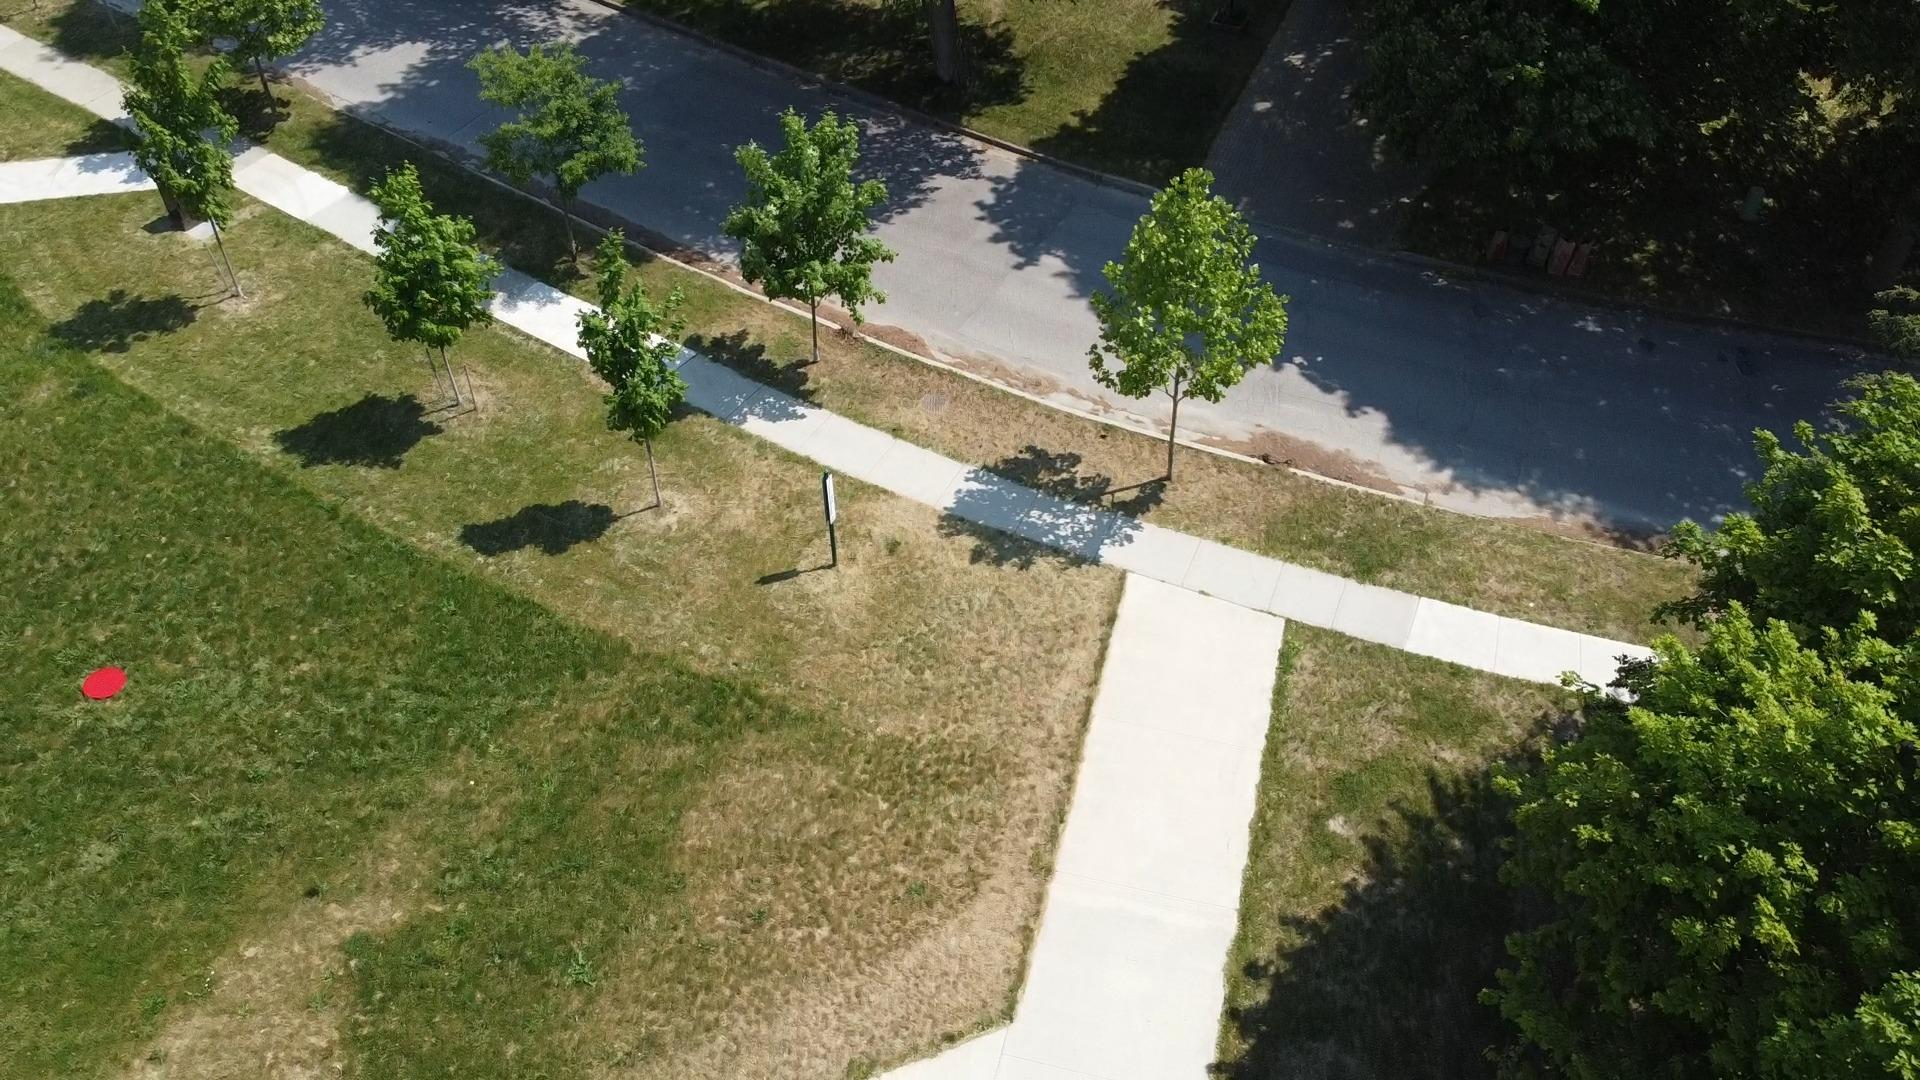Red: (82, 666, 128, 700)
